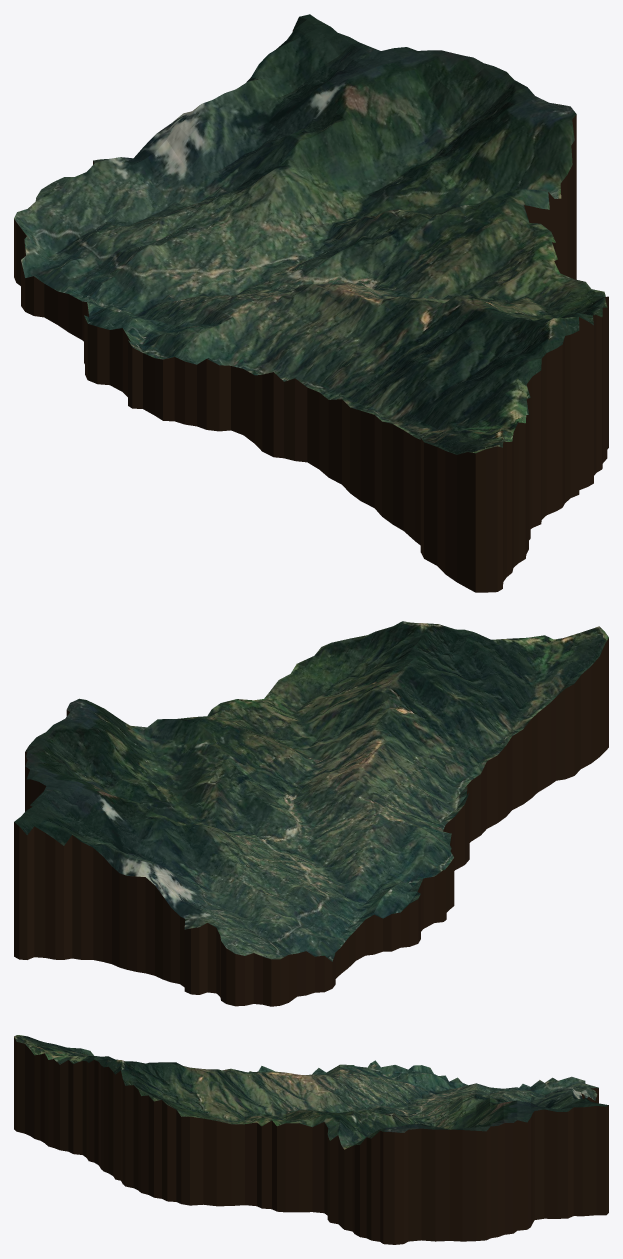
The model's file is SanSebastian.fbx.
3 renders of one model, top to bottom at view 1: azimuth 30°, elevation 25°; view 2: azimuth 150°, elevation 25°; view 3: azimuth 270°, elevation 25°, orthographic. The views are drawn at different scales.
Parts seen in each view (by area): view 1: Mapa_SanSebastianPalmitas; view 2: Mapa_SanSebastianPalmitas; view 3: Mapa_SanSebastianPalmitas.
Boxes of the visible parts, <box> form: Mapa_SanSebastianPalmitas: <box>14,14,608,592</box>; Mapa_SanSebastianPalmitas: <box>14,621,608,1006</box>; Mapa_SanSebastianPalmitas: <box>14,1035,608,1244</box>.
Size of the model in its own units: 763055 by 280200 by 1334529.
